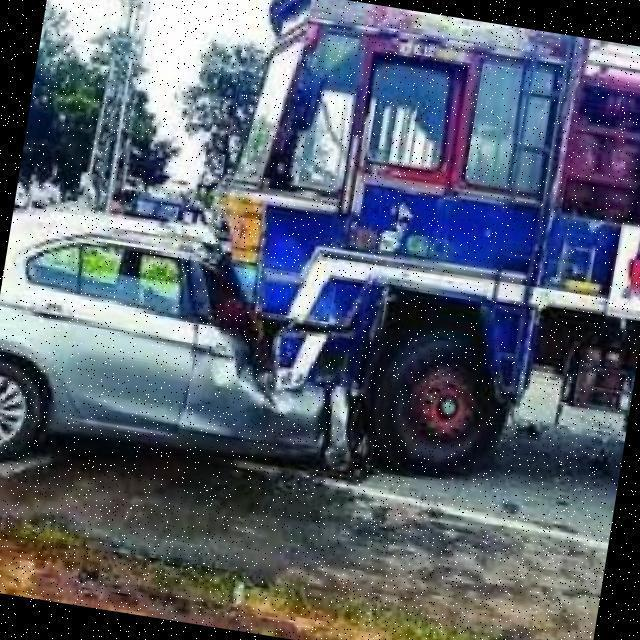accident: (63, 119, 551, 481)
